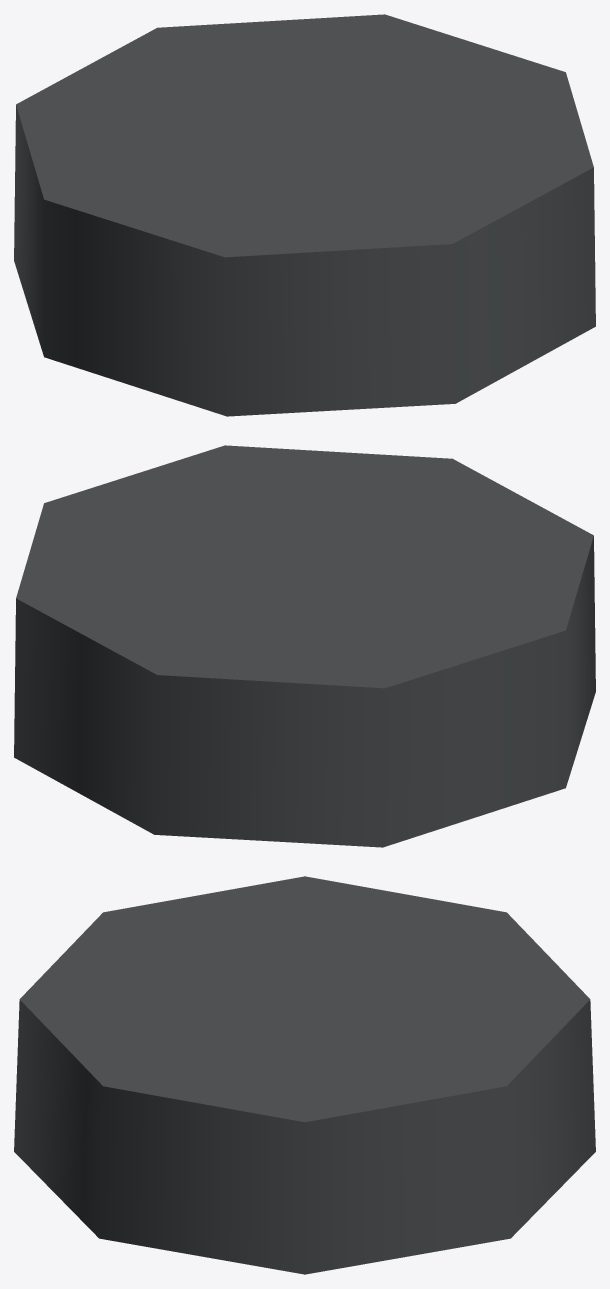
File: Armchair_012.fbx
3 views of the same model, one above another, from view 1: azimuth 30°, elevation 25°; view 2: azimuth 150°, elevation 25°; view 3: azimuth 270°, elevation 25° (orthographic). The views are drawn at different scales.
Visible parts, largest first — view 1: Armchair_012; view 2: Armchair_012; view 3: Armchair_012.
Part boxes in pixels (<box>): Armchair_012: <box>14,14,595,416</box>; Armchair_012: <box>14,445,595,847</box>; Armchair_012: <box>14,876,595,1274</box>.
Bounding box in the file's own units: 11 × 11 × 3.18.
